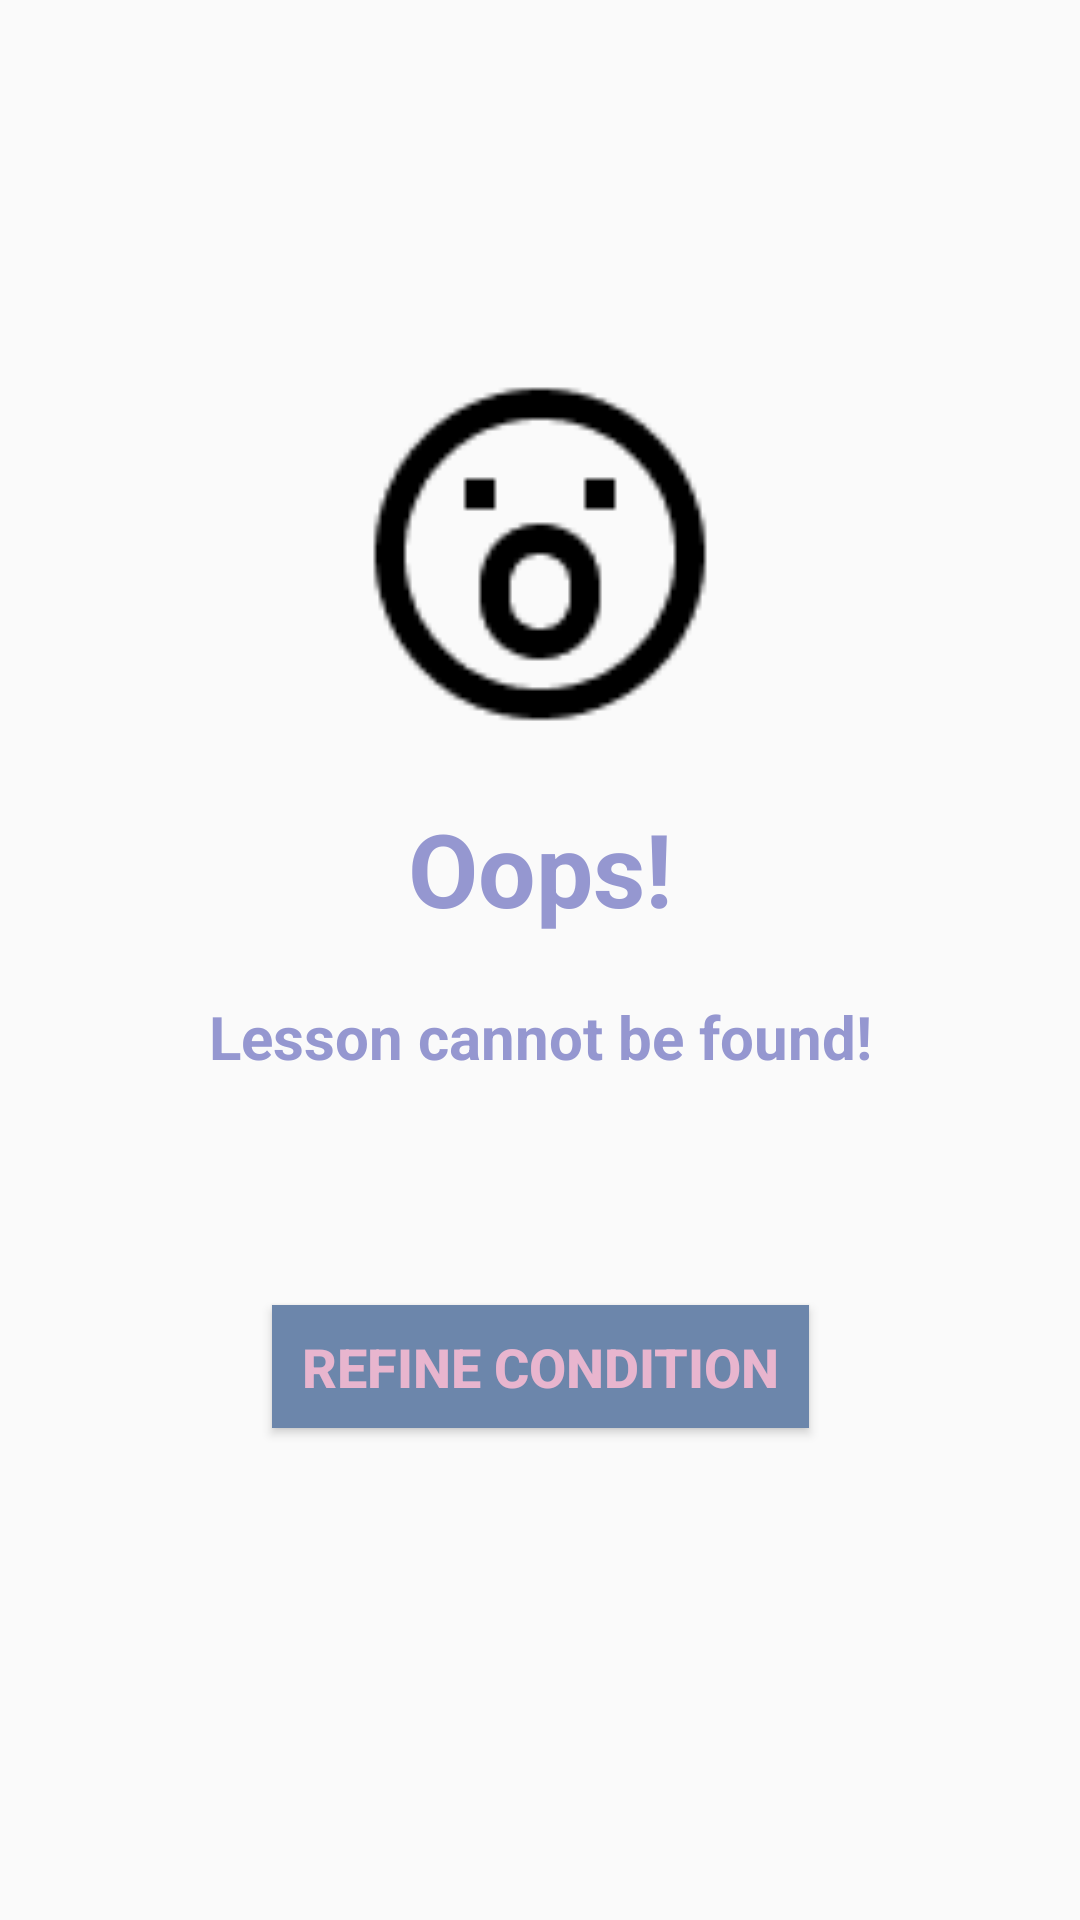

Locate icon controls on the screen. Image size 1080px×1920px, boxes as {"x1": x1, "y1": y1, "x2": x2, "y2": y2}.
shocked: {"x1": 373, "y1": 387, "x2": 707, "y2": 721}
